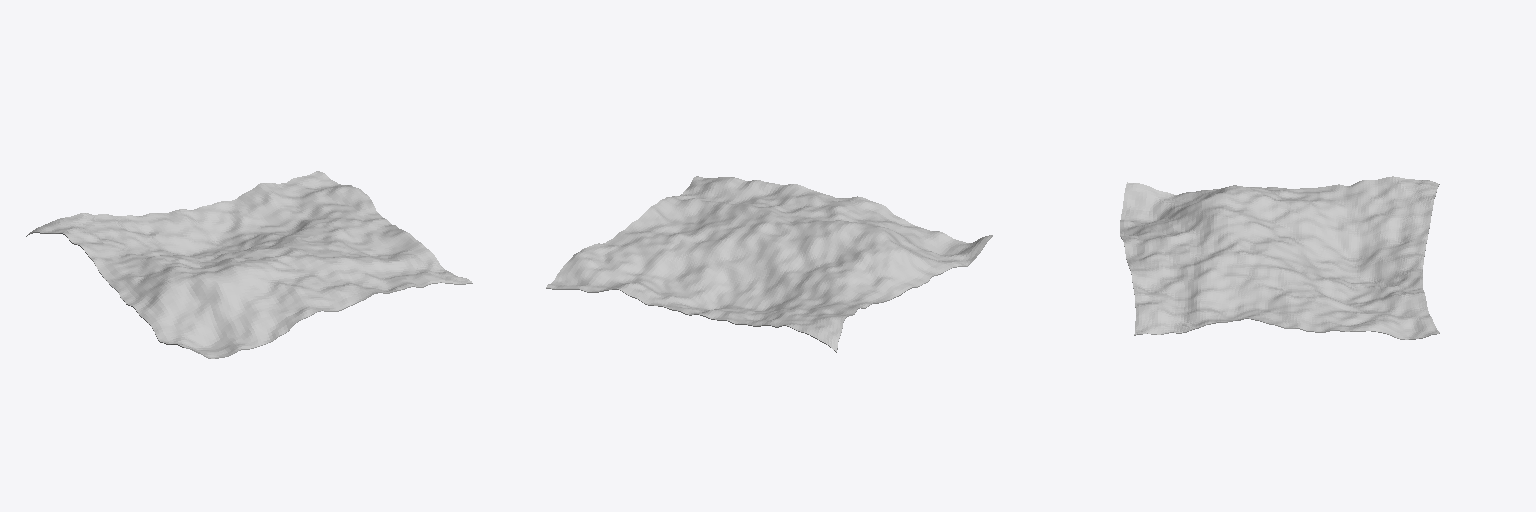
File: tent middle.obj
3 renders of one model, left to right at view 1: azimuth 30°, elevation 25°; view 2: azimuth 150°, elevation 25°; view 3: azimuth 270°, elevation 25°, orthographic.
Visible parts, largest first — view 1: Plane001; view 2: Plane001; view 3: Plane001.
Boxes of the visible parts, x1,y1,x2,y2 form: Plane001: [26, 171, 472, 358]; Plane001: [546, 176, 992, 352]; Plane001: [1120, 176, 1439, 339].
Size of the model in its own units: 6.7 by 0.9627 by 6.21.